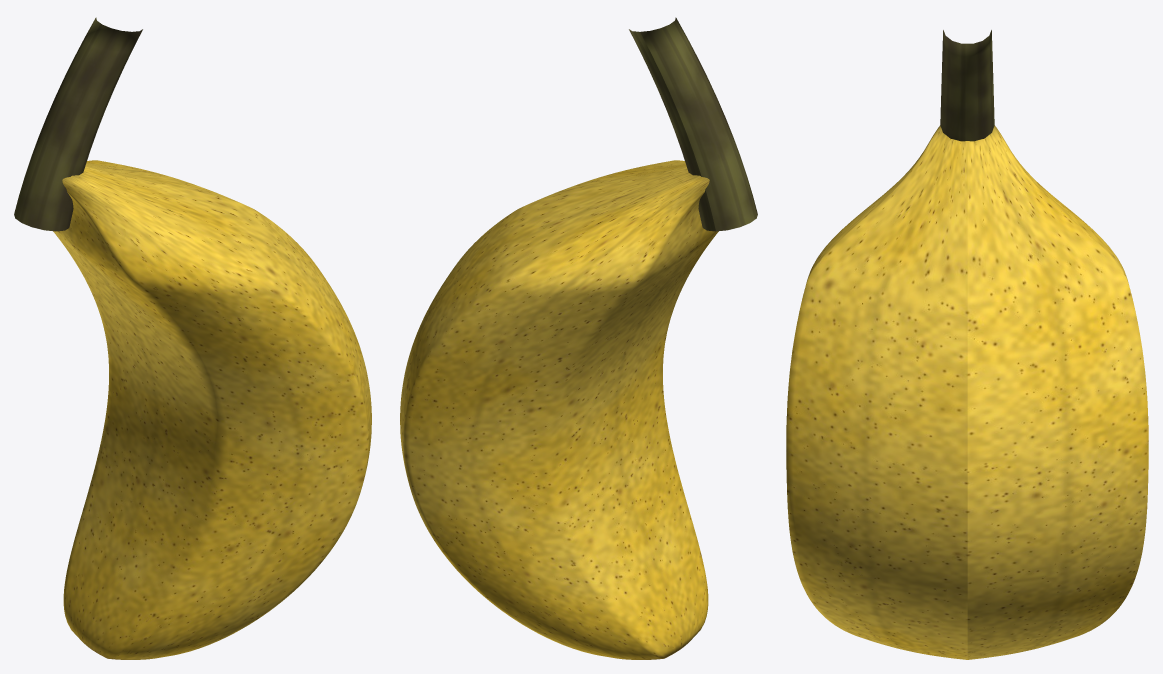
The model's file is figue-sucree.glb.
3 renders of one model, left to right at view 1: azimuth 30°, elevation 25°; view 2: azimuth 150°, elevation 25°; view 3: azimuth 270°, elevation 25°, orthographic.
Parts seen in each view (by area): view 1: entier_peau, moitie_A_peau, entier_extra0, moitie_B_peau; view 2: entier_peau, moitie_B_peau, entier_extra0, moitie_A_peau; view 3: entier_peau, moitie_A_peau, moitie_B_peau, entier_extra0.
Part boxes in pixels (<box>): entier_peau: <box>54,160,371,659</box>; moitie_A_peau: <box>63,167,371,659</box>; entier_extra0: <box>14,17,142,231</box>; moitie_B_peau: <box>53,160,241,647</box>; entier_peau: <box>400,160,718,659</box>; moitie_B_peau: <box>400,167,708,659</box>; entier_extra0: <box>629,17,757,231</box>; moitie_A_peau: <box>532,160,718,647</box>; entier_peau: <box>786,126,1148,659</box>; moitie_A_peau: <box>786,126,966,659</box>; moitie_B_peau: <box>968,126,1148,659</box>; entier_extra0: <box>940,30,994,141</box>.
Size of the model in its own units: 0.0559 by 0.1021 by 0.0537.
Materials: 3 (3 with a texture image).
